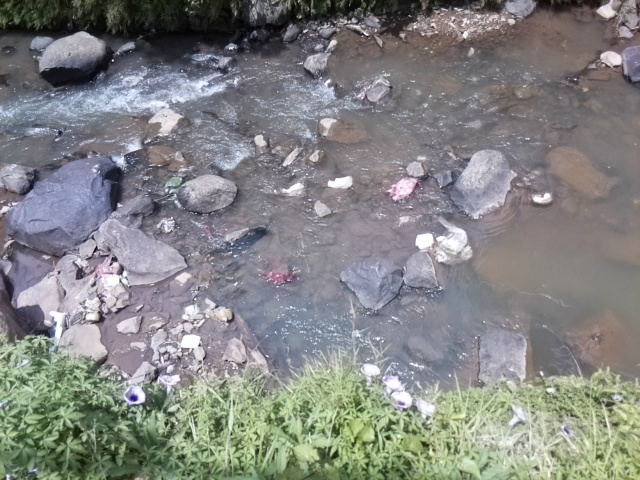Sampah_Plastik: (441, 224, 471, 262), (384, 176, 421, 202), (266, 265, 298, 287), (95, 263, 114, 274)
Sampah_Styrofoam: (325, 176, 353, 190), (414, 233, 436, 248), (180, 334, 202, 349)
